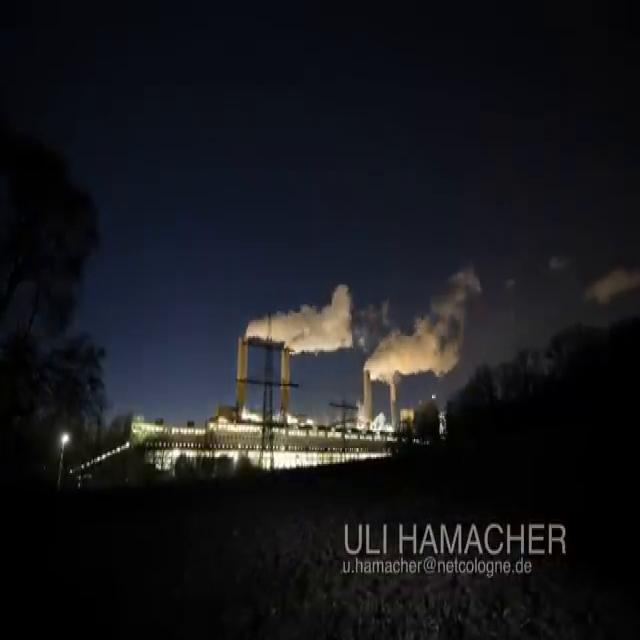smoke: (364, 274, 477, 421), (241, 288, 354, 389)
